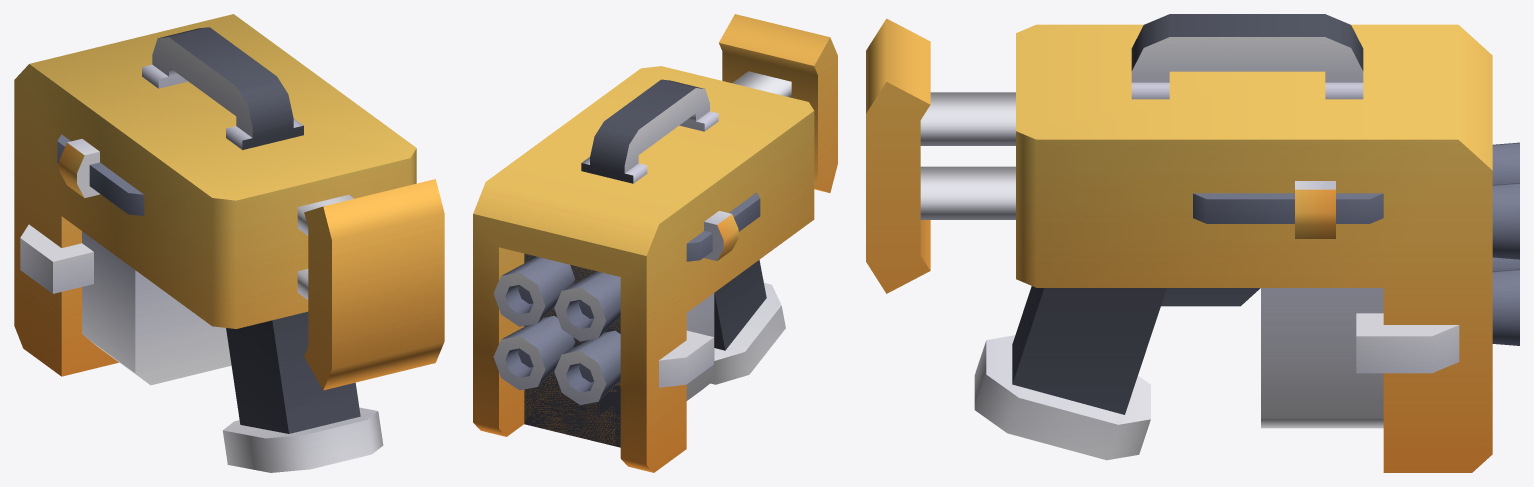
The model's file is blaster-o.glb.
3 renders of one model, left to right at view 1: azimuth 30°, elevation 25°; view 2: azimuth 150°, elevation 25°; view 3: azimuth 270°, elevation 25°, orthographic. The views are drawn at different scales.
Parts seen in each view (by area): view 1: blaster-o; view 2: blaster-o; view 3: blaster-o.
Part boxes in pixels (bbox=[...]): blaster-o: bbox=[14, 14, 444, 472]; blaster-o: bbox=[473, 14, 837, 472]; blaster-o: bbox=[866, 14, 1519, 472].
Bounding box in the file's own units: 0.245 × 0.3338 × 0.48.
1 material, 1 textured.
